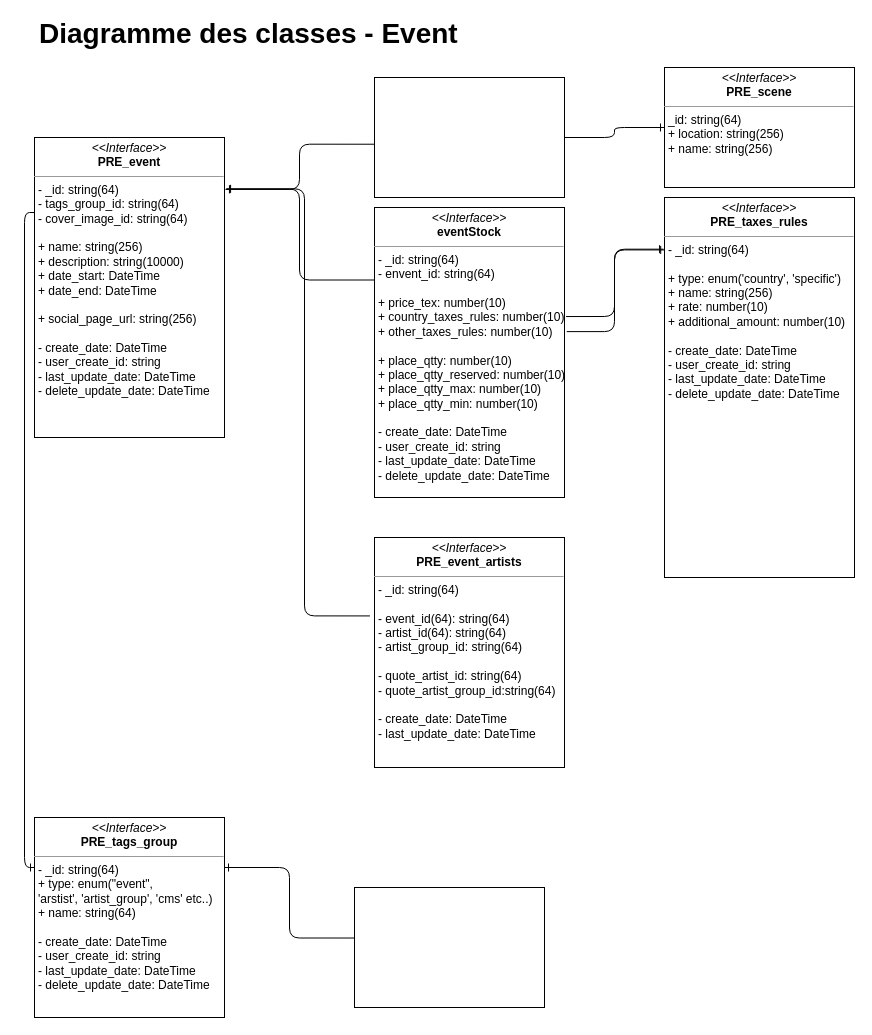
This 872x1035 diagram has some shape labels left out. The centre of each missing label's shape, as x and y in pixels:
<<Interface>> PRE_event_scene - scene_id: string(64) - event_id(64): string: (469,137)
<<Interface>> PRE_tags_group_rel - group_id: string(64) - tag_id: string(64): (449,947)
